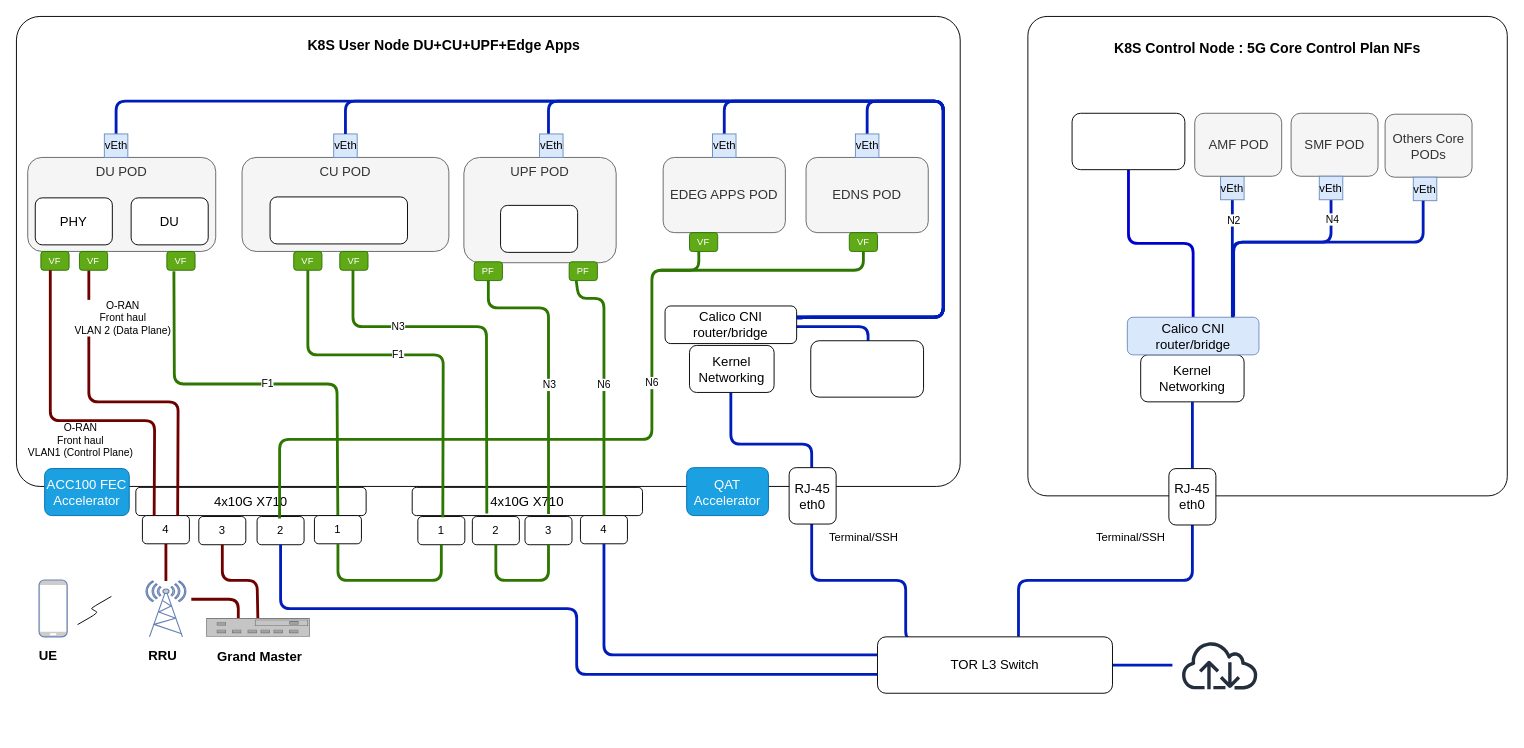
This 1524x748 diagram has some shape labels left out. The centre of each missing label's shape, as x and y in pixels:
"CU" belongs at pixel 338 220.
"Internet" belongs at pixel 1219 664.
"Kubernetes Control plane components" belongs at pixel 1128 141.
"Kubernetes node components" belongs at pixel 867 368.
"UPF" belongs at pixel 539 228.
